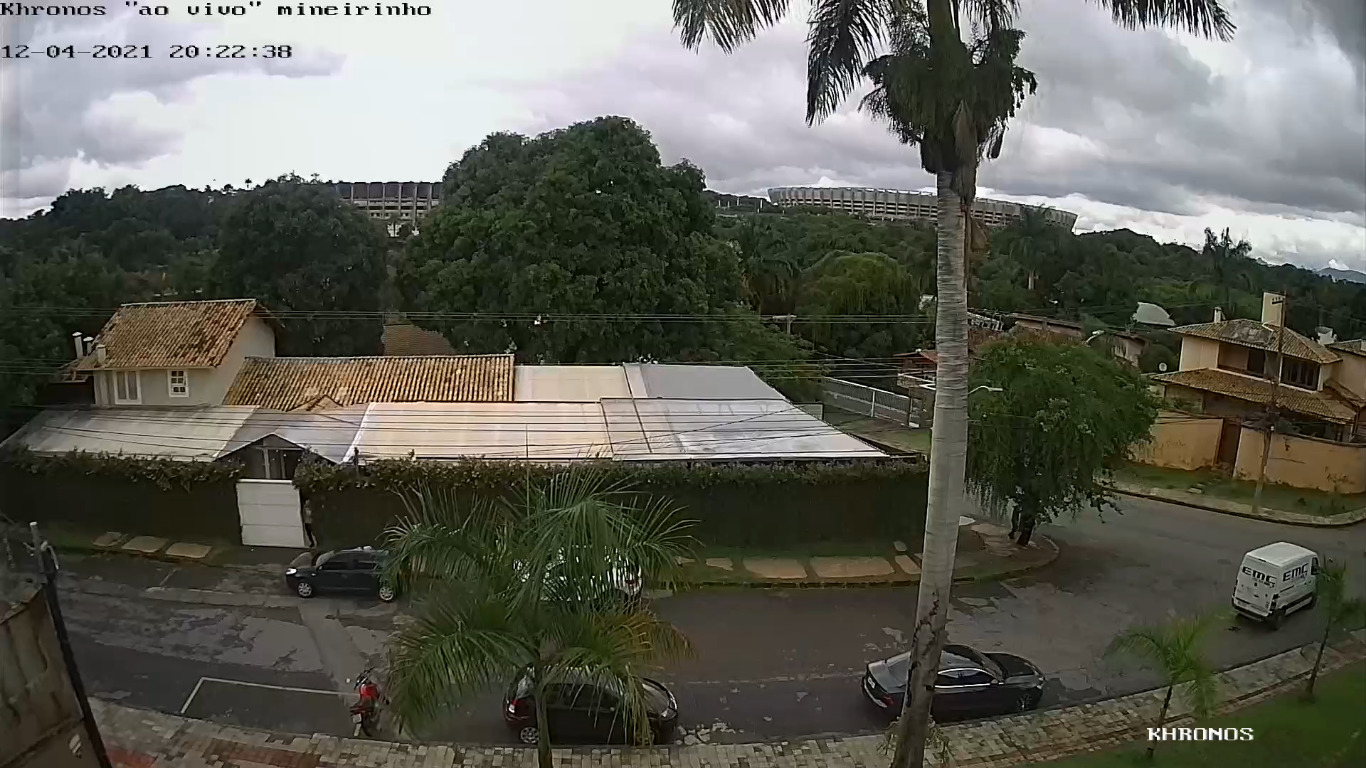car: (505, 658, 678, 747), (863, 644, 1044, 725), (286, 538, 402, 601)
